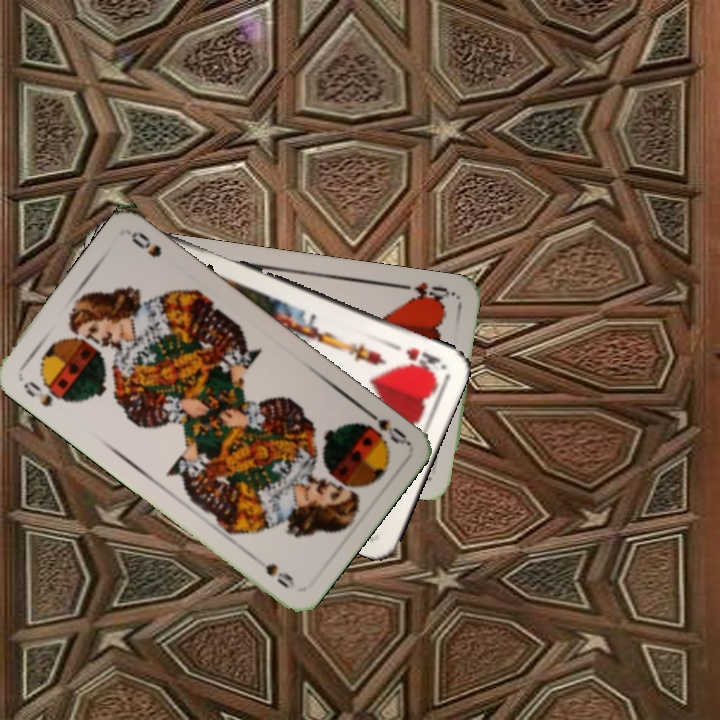HK: (388, 339, 445, 376)
HO: (396, 277, 455, 307)
SO: (359, 404, 409, 448), (19, 376, 71, 410)
